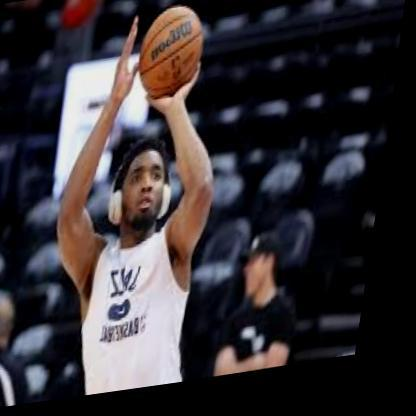basketball: (136, 8, 210, 107)
